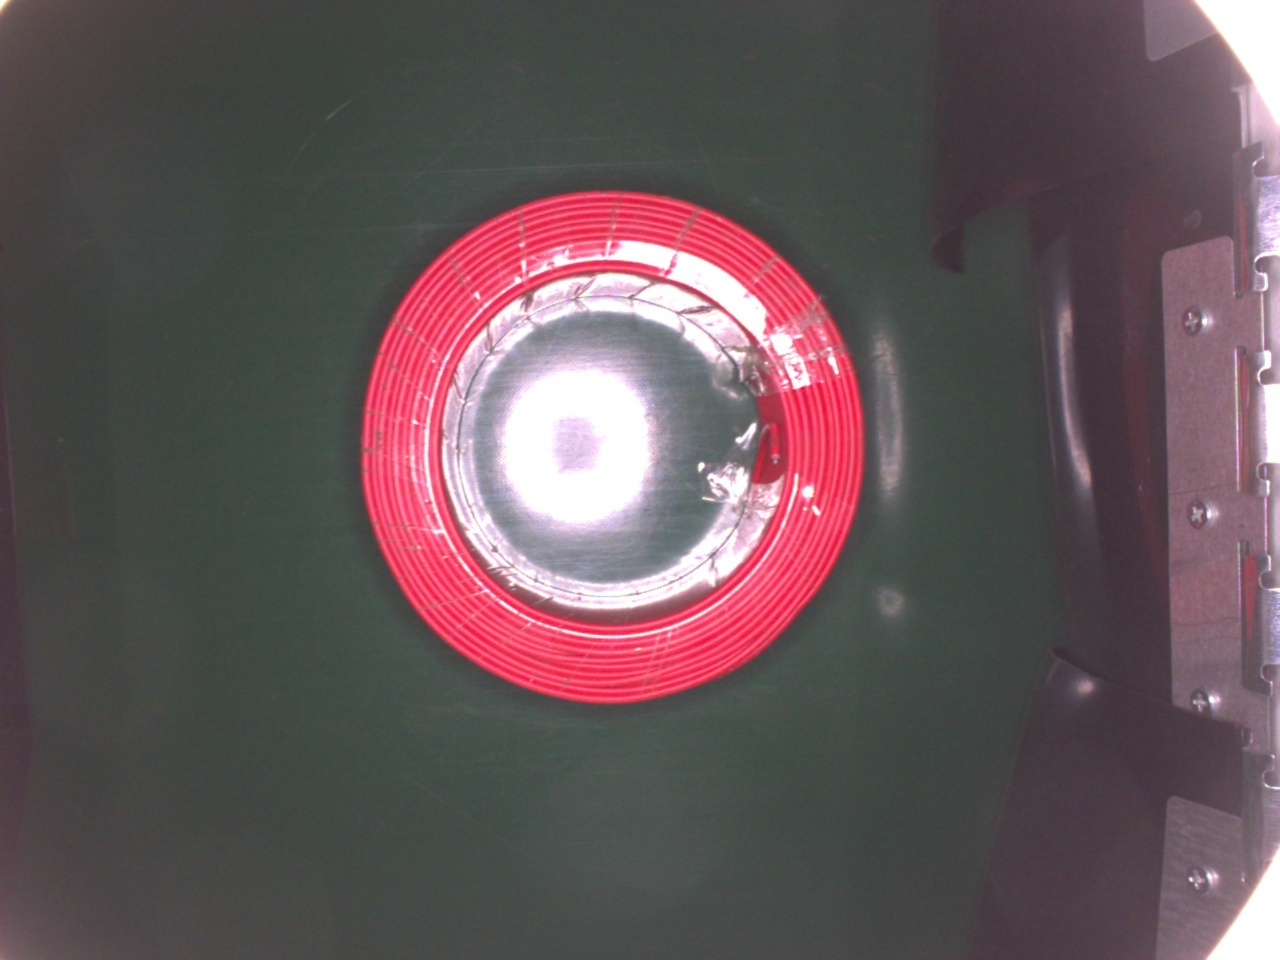red: (361, 188, 865, 709)
